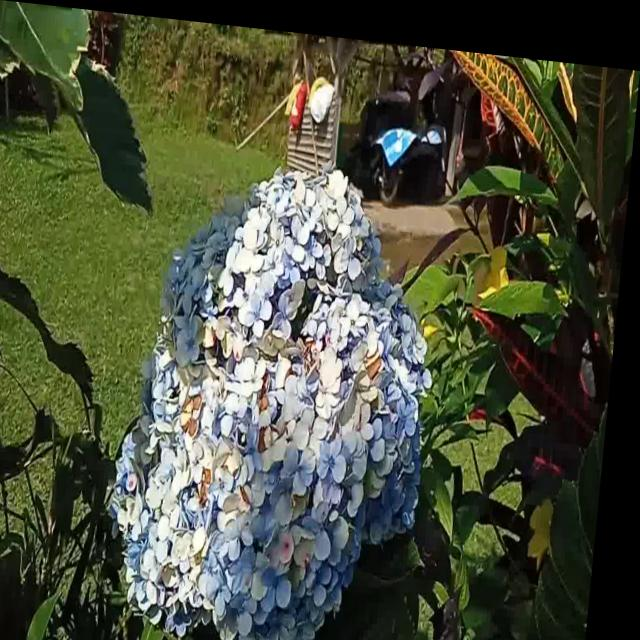Flower: (113, 146, 451, 640)
